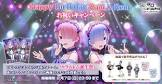rem: (83, 23, 121, 81)
